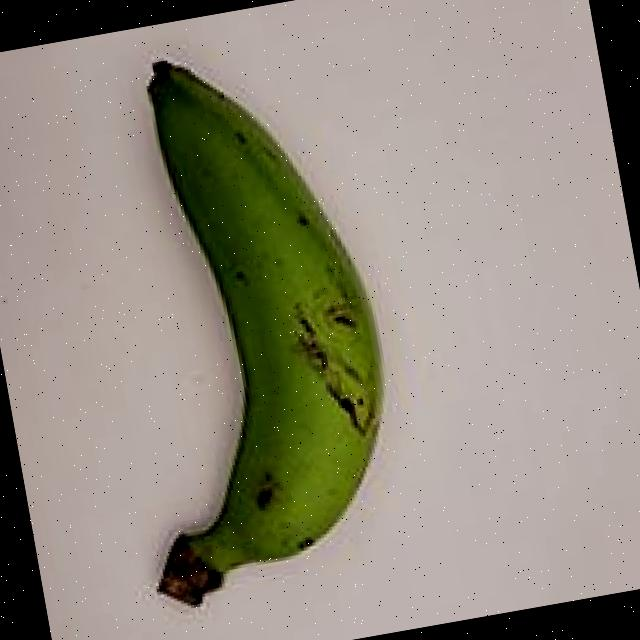Raw: (23, 9, 448, 640)
